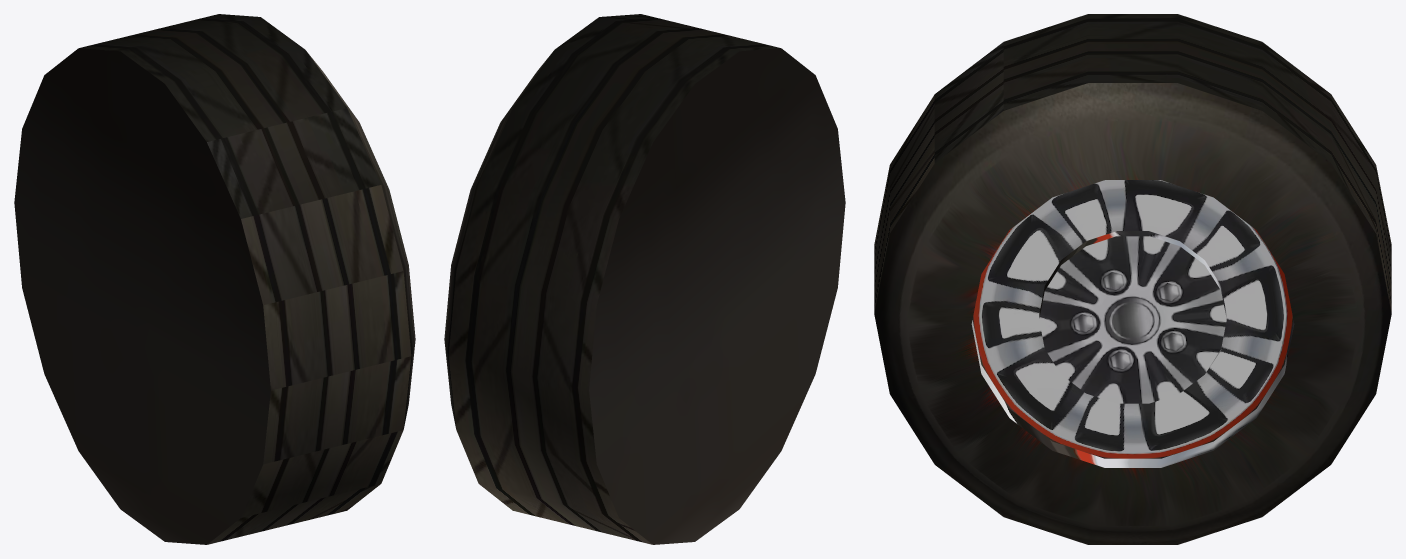
Rendered from LlantaTexturizada.obj.
The picture shows the model from 3 angles, left to right: view 1: azimuth 30°, elevation 25°; view 2: azimuth 150°, elevation 25°; view 3: azimuth 270°, elevation 25°; orthographic projection.
Parts seen in each view (by area): view 1: WheelR_F; view 2: WheelR_F; view 3: WheelR_F.
Part boxes in pixels (x1,y1,x2,y2): WheelR_F: (14,14,415,544); WheelR_F: (444,14,845,544); WheelR_F: (874,14,1391,544).
Bounding box in the file's own units: 0.5187 × 1.41 × 1.43.
